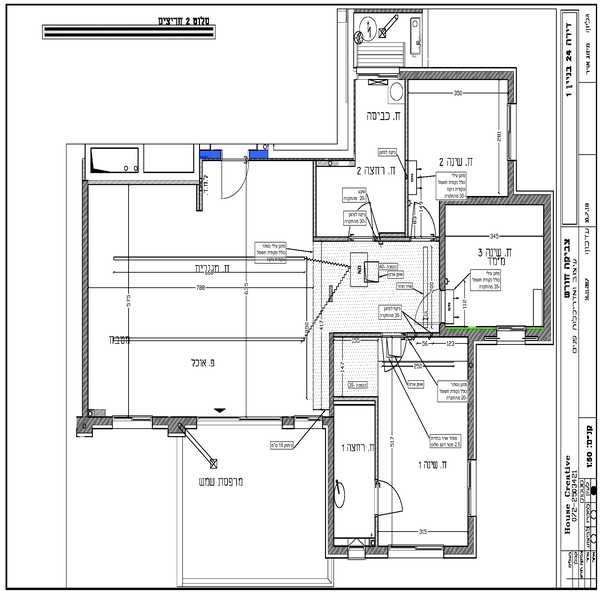door: (218, 141, 252, 204), (407, 293, 454, 327), (373, 476, 411, 517), (406, 197, 436, 244), (346, 200, 382, 235)
room: (67, 169, 335, 433), (322, 328, 477, 561), (439, 192, 565, 351), (399, 54, 523, 200)
wall: (77, 176, 95, 417), (461, 339, 483, 464), (535, 209, 555, 344), (322, 415, 340, 556), (397, 66, 517, 83), (80, 172, 199, 188), (73, 414, 114, 449), (439, 194, 553, 206), (438, 325, 509, 344), (437, 203, 454, 280), (151, 412, 199, 439), (327, 327, 381, 345), (327, 332, 339, 406), (465, 514, 482, 560), (309, 231, 352, 246), (441, 542, 468, 565), (363, 538, 390, 558), (385, 228, 412, 245), (198, 145, 225, 160), (247, 151, 268, 159)
window: (198, 411, 283, 434), (109, 410, 154, 434), (504, 104, 519, 160), (501, 323, 521, 344)
